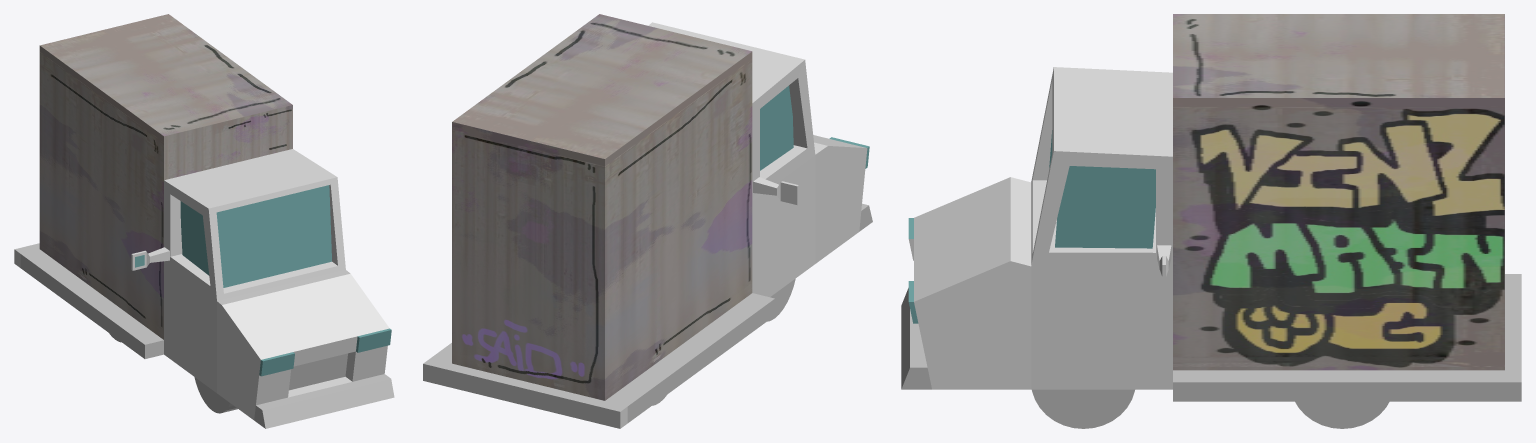
The model's file is vehicle.fbx.
3 views of the same model, side by side, from view 1: azimuth 30°, elevation 25°; view 2: azimuth 150°, elevation 25°; view 3: azimuth 270°, elevation 25° (orthographic). The views are drawn at different scales.
Parts seen in each view (by area): view 1: Caminhão; view 2: Caminhão; view 3: Caminhão.
Boxes of the visible parts, x1,y1,x2,y2 form: Caminhão: (14,14,394,428); Caminhão: (423,14,872,428); Caminhão: (901,14,1521,428).
Bounding box in the file's own units: 510 × 616 × 1023.
